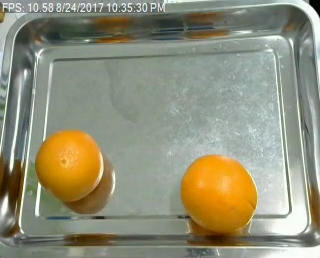Orange: (181, 153, 259, 232), (35, 130, 104, 202)
